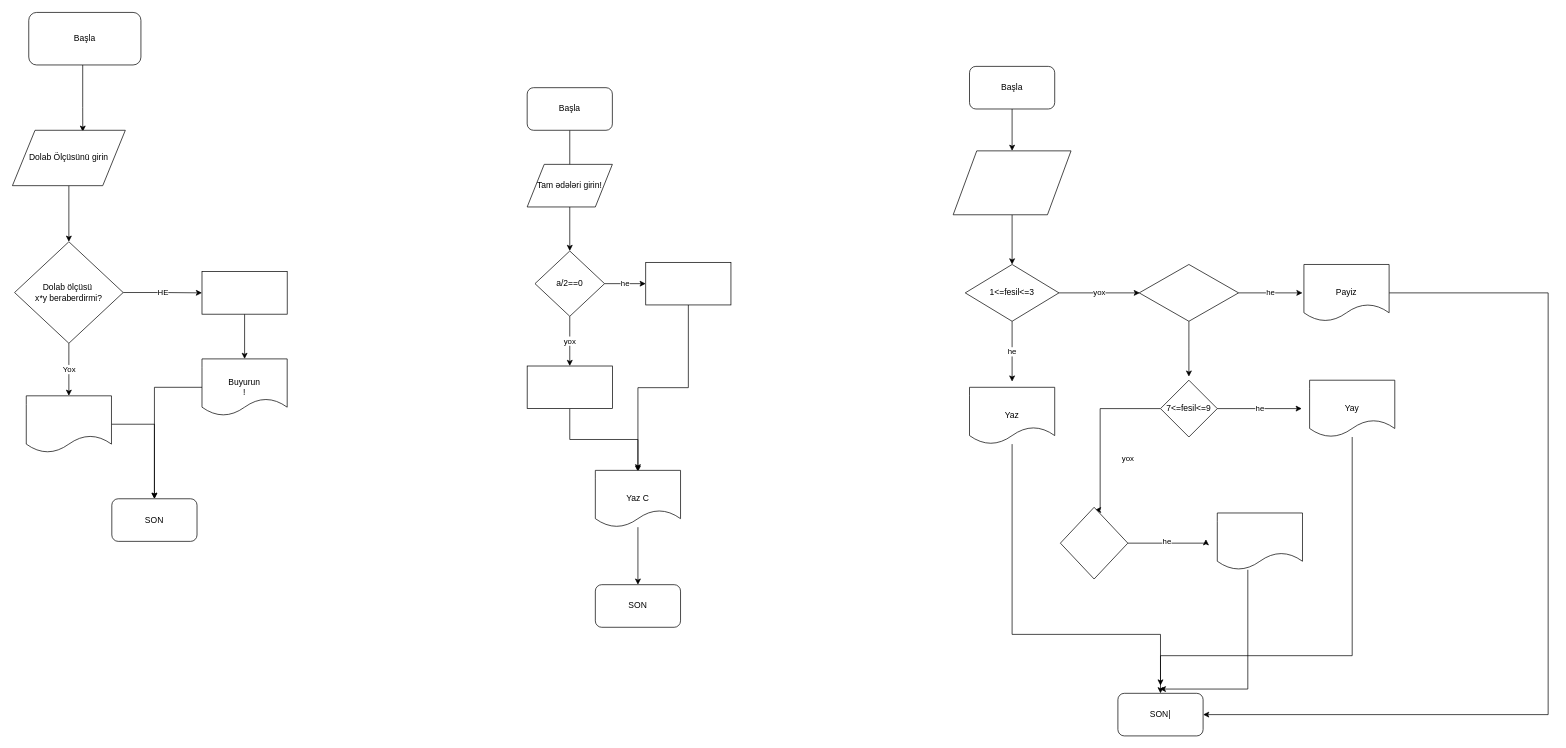
Some shapes in this 1566 by 748 pixel diagram are drawn without their labels. The box of each missing label's shape, as (x1, y1, x2, y2) in pixels:
10<=fesil<=12: (1060, 507, 1128, 579)
4<=fesil<=6: (1138, 264, 1239, 321)
c=a*2: (645, 262, 731, 305)
c=a*2+1: (526, 365, 612, 409)
Fəsillərin Nömrəsini girin: (952, 150, 1071, 215)
QIs: (1217, 512, 1302, 570)
Ölçü böyükdür: (26, 395, 111, 453)
Ölçünü girin: (201, 271, 287, 314)
